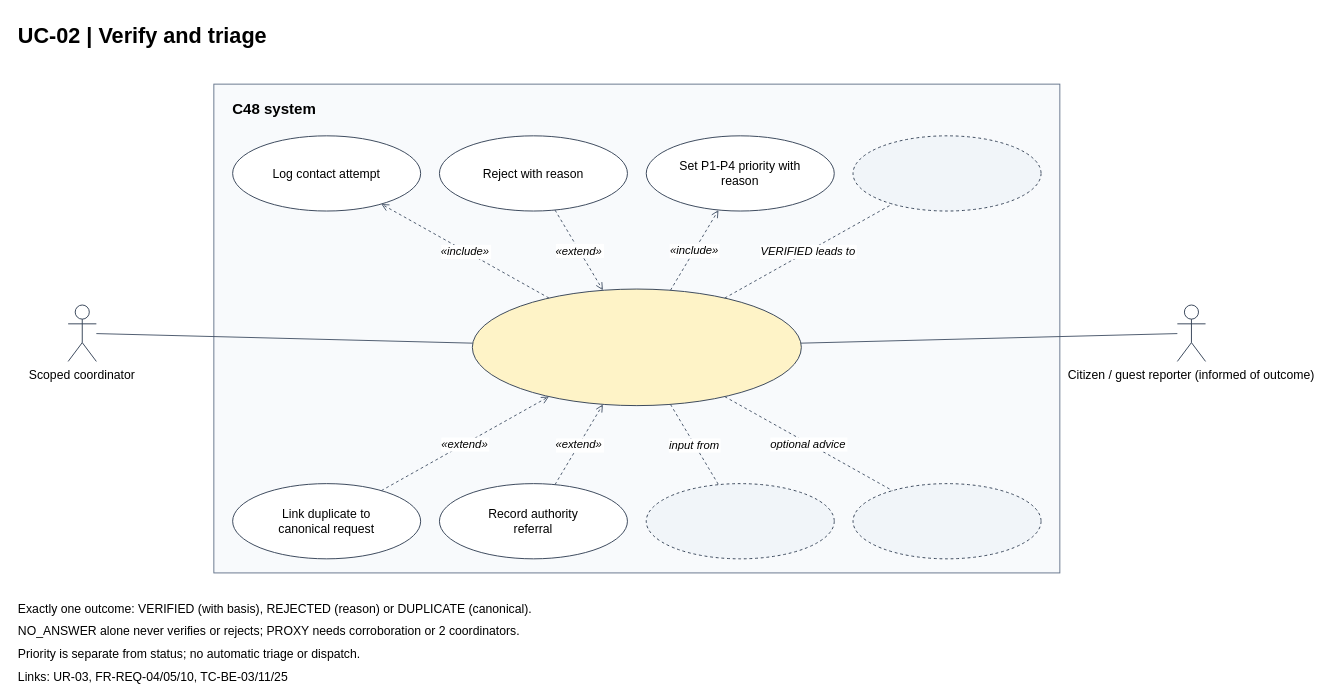
This 1331x699 diagram has some shape labels left out. Here are the shapes that lost their labels. From the top down, the centre of each, then its label:
At pixel 946 173: "UC-03 Assign and accept mission".
At pixel 636 347: "UC-02 Verify and triage".
At pixel 739 521: "UC-01 Submit SOS".
At pixel 946 521: "UC-07 AI priority suggestion".
